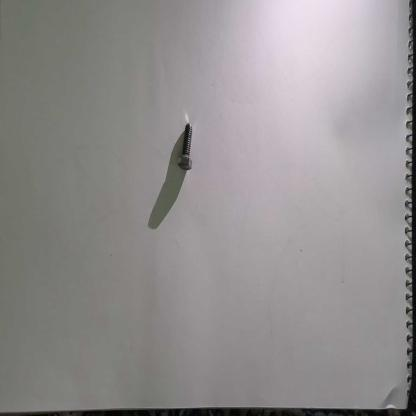Bolts: (174, 122, 197, 174)
